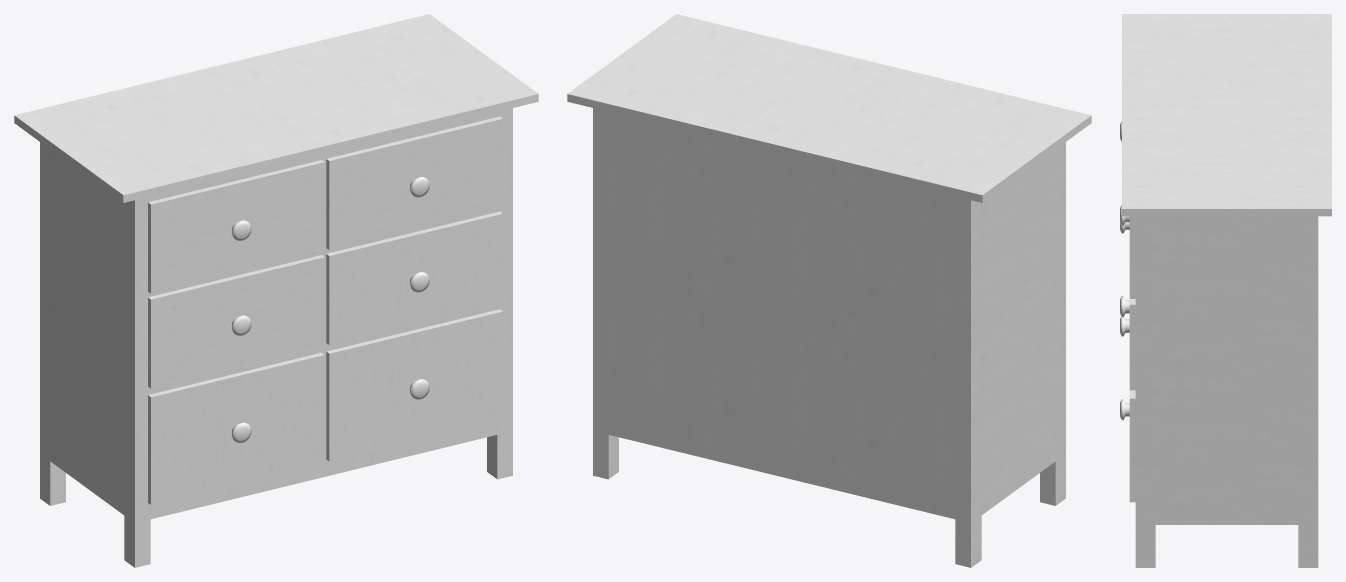
The model's file is Drawer13.fbx.
The picture shows the model from 3 angles, left to right: view 1: azimuth 30°, elevation 25°; view 2: azimuth 150°, elevation 25°; view 3: azimuth 270°, elevation 25°; orthographic projection. The views are drawn at different scales.
Visible parts, largest first — view 1: Drawer13_Body, Drawer13_6, Drawer13_5, Drawer13_2, Drawer13_4, Drawer13_1, Drawer13_3; view 2: Drawer13_Body; view 3: Drawer13_Body, Drawer13_6, Drawer13_4, Drawer13_2.
Part boxes in pixels (bbox=[...]): Drawer13_Body: bbox=[14, 14, 538, 567]; Drawer13_6: bbox=[326, 309, 502, 461]; Drawer13_5: bbox=[148, 352, 324, 504]; Drawer13_2: bbox=[326, 116, 502, 250]; Drawer13_4: bbox=[326, 211, 502, 345]; Drawer13_1: bbox=[148, 160, 324, 293]; Drawer13_3: bbox=[148, 255, 324, 388]; Drawer13_Body: bbox=[567, 14, 1091, 567]; Drawer13_Body: bbox=[1122, 14, 1331, 567]; Drawer13_6: bbox=[1120, 390, 1135, 502]; Drawer13_4: bbox=[1120, 296, 1135, 390]; Drawer13_2: bbox=[1120, 205, 1135, 298].
Bounding box in the file's own units: 95.73 × 84.25 × 44.01.
